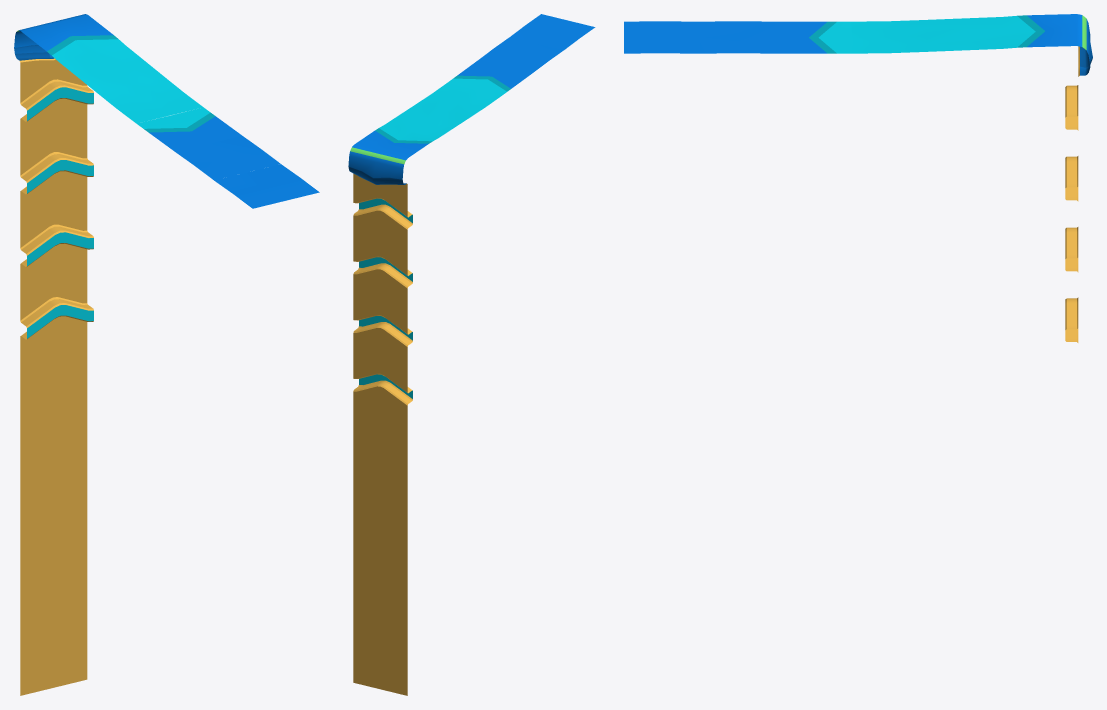
File: V2_Ground.fbx
The picture shows the model from 3 angles, left to right: view 1: azimuth 30°, elevation 25°; view 2: azimuth 150°, elevation 25°; view 3: azimuth 270°, elevation 25°; orthographic projection. The views are drawn at different scales.
Parts seen in each view (by area): view 1: V2_Ground; view 2: V2_Ground; view 3: V2_Ground.
Part boxes in pixels (x1,y1,x2,y2): V2_Ground: (14, 14, 319, 695); V2_Ground: (348, 14, 595, 695); V2_Ground: (624, 14, 1092, 342).
Bounding box in the file's own units: 200 × 1893 × 1238.
